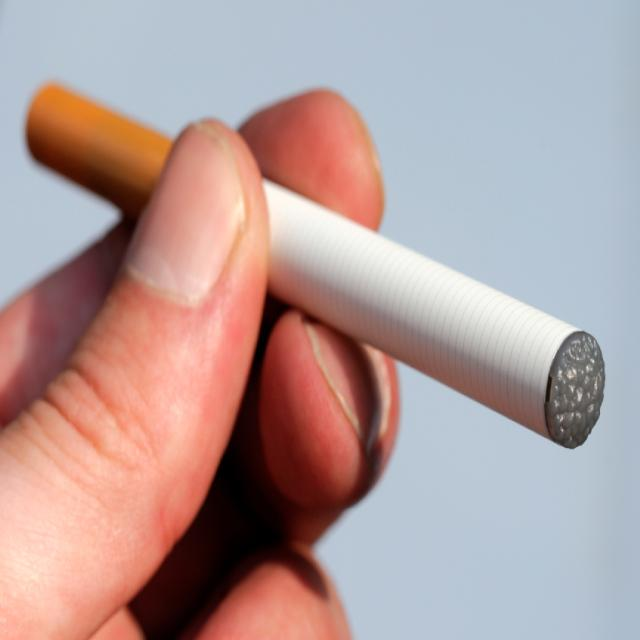Cigarette: (25, 83, 606, 451)
Hand: (8, 94, 395, 640)
